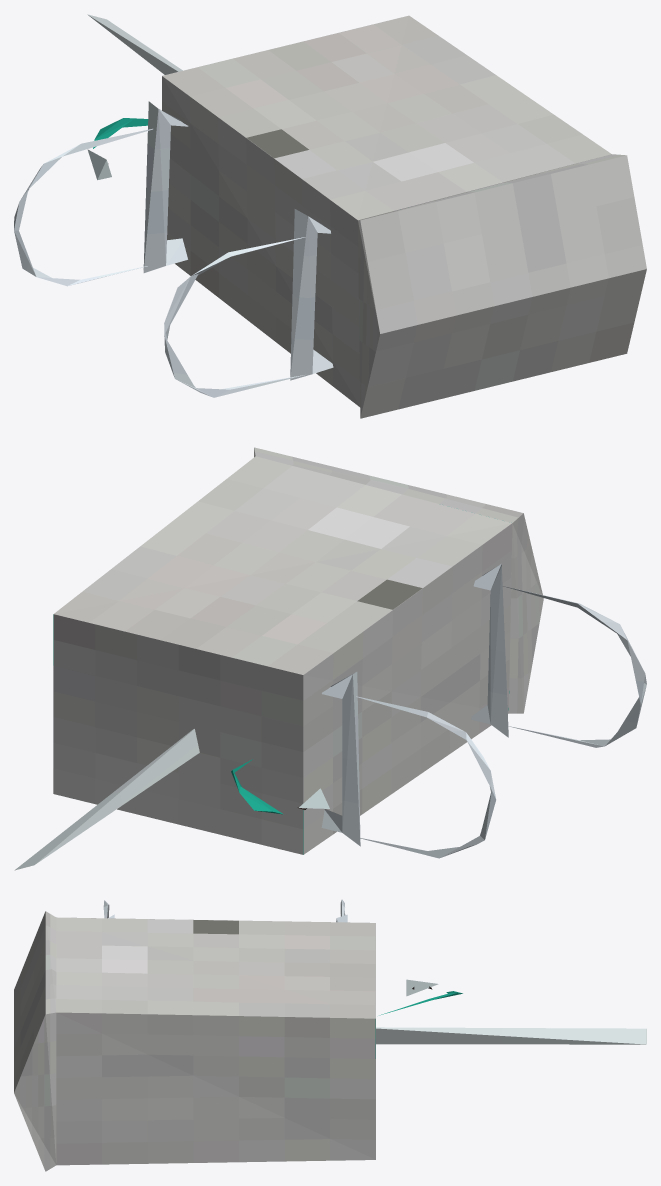
Rendered from xz001-geode.glb.
3 views of the same model, one above another, from view 1: azimuth 30°, elevation 25°; view 2: azimuth 150°, elevation 25°; view 3: azimuth 270°, elevation 25° (orthographic). The views are drawn at different scales.
Visible parts, largest first — view 1: Node; view 2: Node; view 3: Node.
Boxes of the visible parts, x1,y1,x2,y2 form: Node: (14, 14, 646, 418); Node: (14, 447, 646, 870); Node: (14, 899, 646, 1171).
Size of the model in its own units: 1.01 by 0.4483 by 1.63.
1 material, 1 textured.
